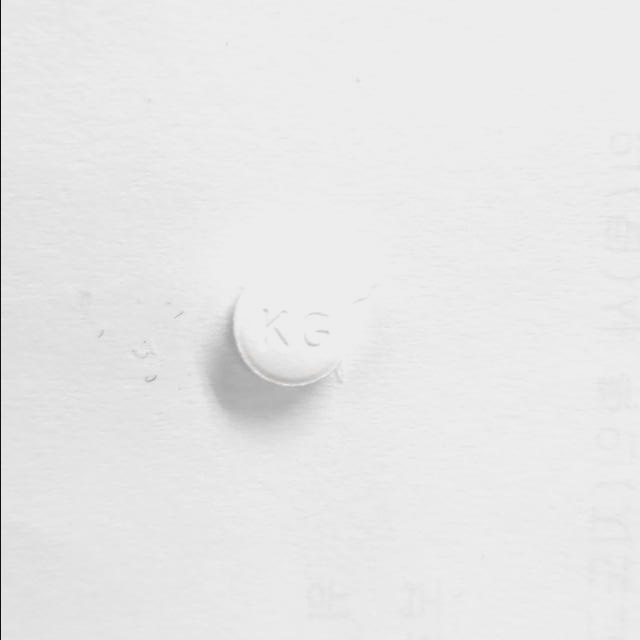pill: (228, 259, 352, 394)
